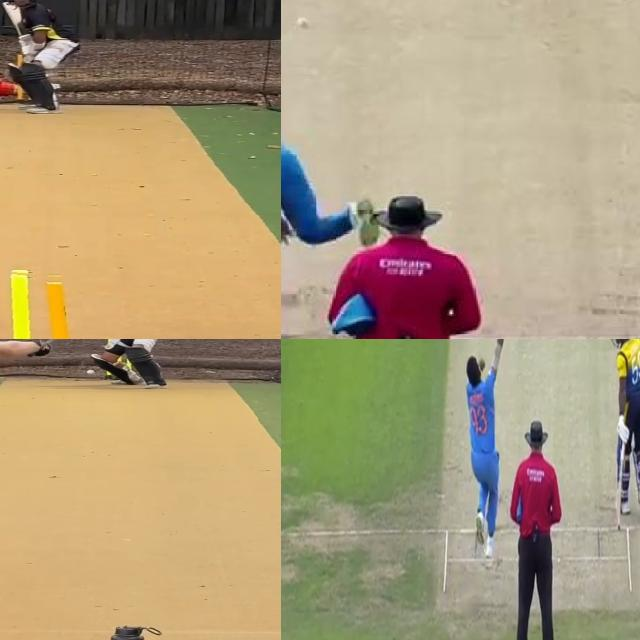Cricket ball: (297, 16, 311, 29), (86, 368, 96, 376)
Stumps: (0, 268, 83, 339)
